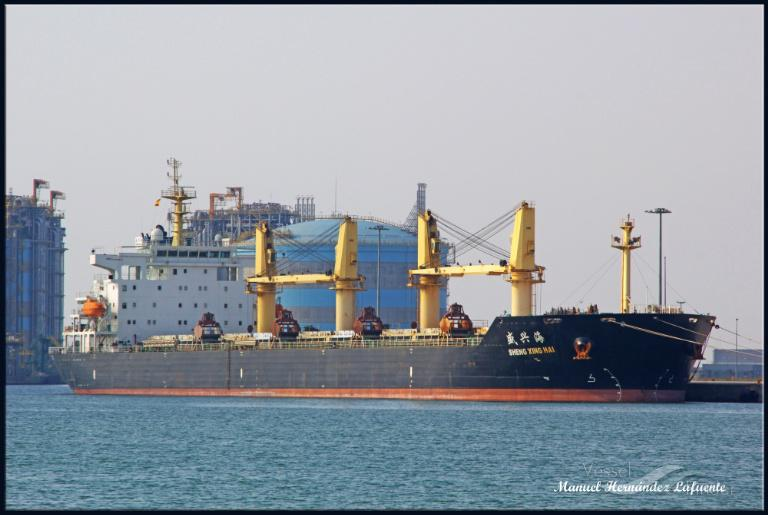OCR: (494, 342, 558, 356)
